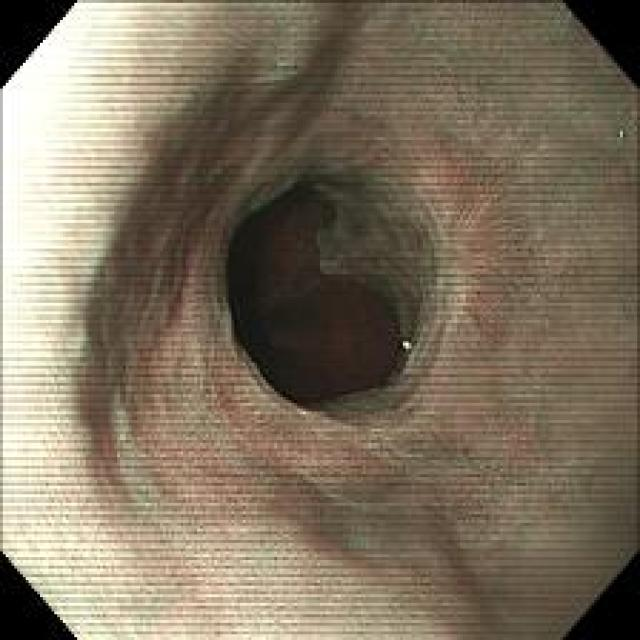contrast: (226, 174, 438, 418)
saturation: (1, 2, 142, 371), (0, 374, 182, 631)
specularity: (619, 128, 625, 138)
